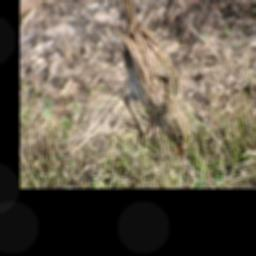Sparrow: (115, 0, 190, 162)
